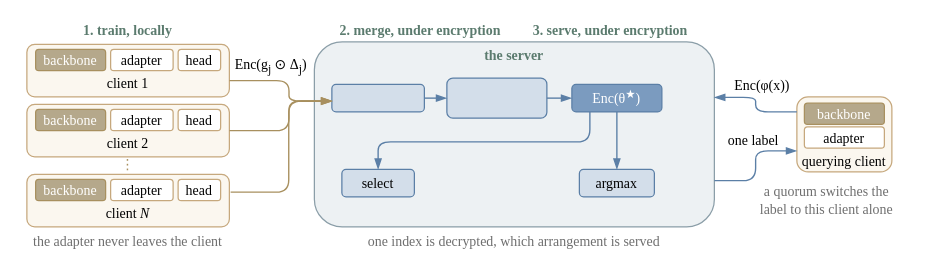
Some shapes in this 933 by 271 pixel diagram are drawn without their labels. The shapes that lost their labels are listed below. From the top down, each one's centre as x and y in pixels, then its label:
At (377,97): "Σ g j ⊙ Δ j".
At (496,97): "encrypted reciprocal".
